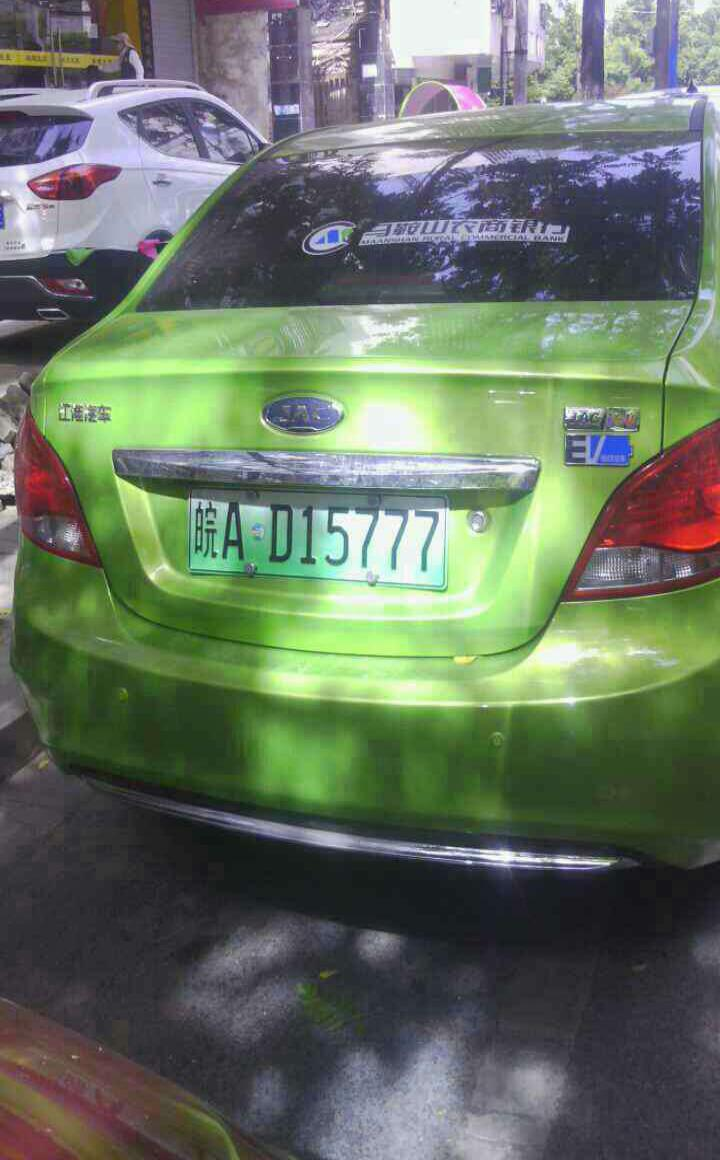car_id: (185, 486, 443, 582)
